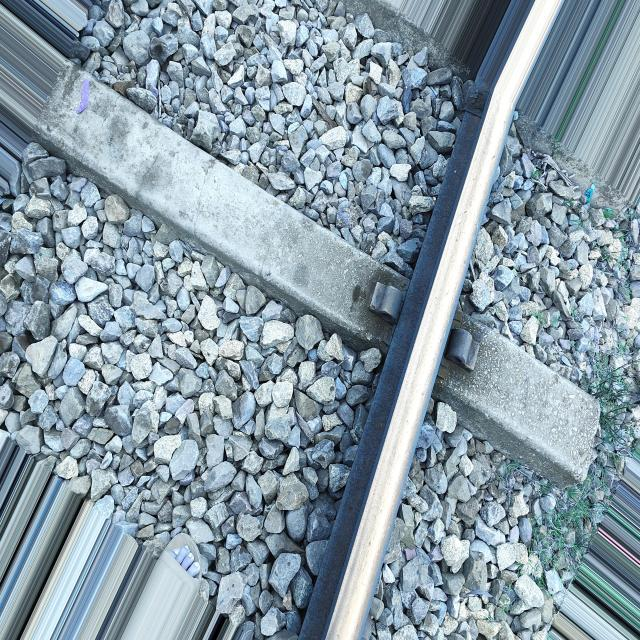Missing Fastener: (337, 256, 412, 349), (442, 324, 486, 378)
